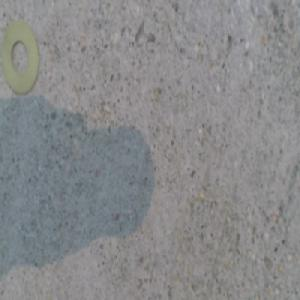Washer: (3, 23, 39, 95)
